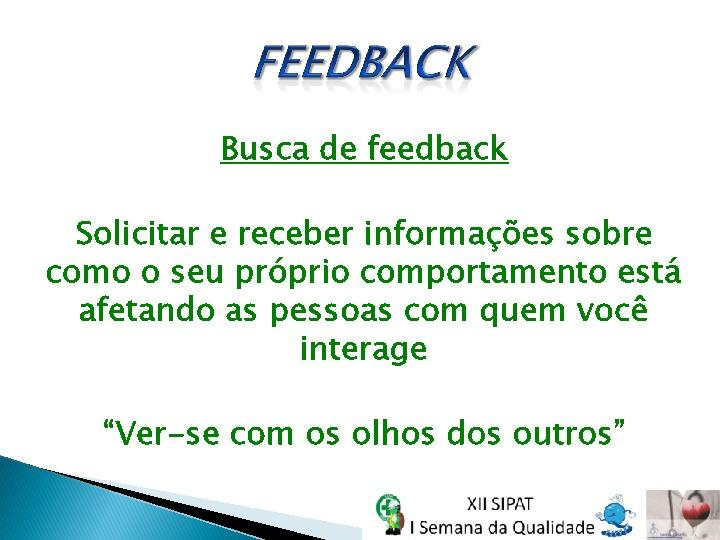subtitle: (23, 194, 701, 390), (84, 407, 720, 540)
title: (205, 24, 562, 176)
